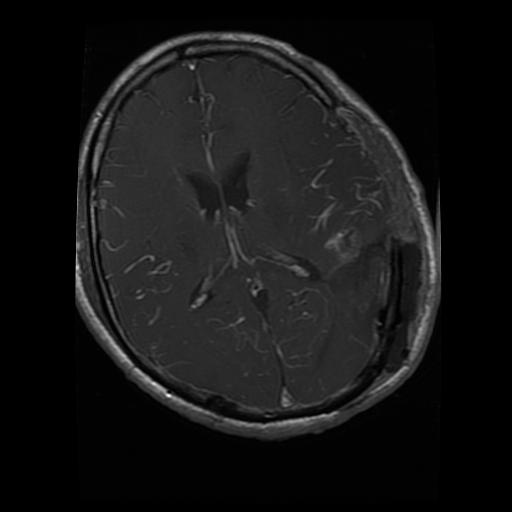Gliomia_tumour: (314, 239, 421, 388)
